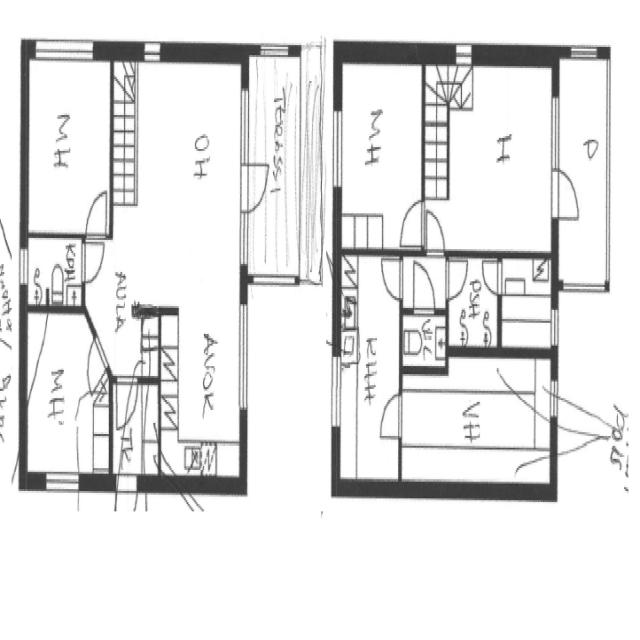door: (240, 113, 278, 226), (78, 212, 107, 288), (552, 163, 584, 225), (396, 188, 426, 252), (409, 258, 438, 316), (376, 386, 404, 444), (82, 186, 110, 244), (111, 372, 138, 430), (112, 468, 142, 520), (422, 202, 448, 259), (443, 253, 470, 303), (85, 334, 107, 394), (379, 255, 404, 302), (481, 256, 504, 296)
window: (232, 295, 252, 424), (32, 30, 98, 66), (246, 266, 303, 299), (328, 100, 346, 202), (328, 346, 344, 438), (41, 465, 83, 498), (546, 86, 562, 172), (139, 33, 167, 67), (547, 373, 562, 428), (257, 37, 292, 60), (452, 39, 475, 70), (548, 301, 562, 351), (18, 241, 31, 292)
zone: (110, 54, 244, 295), (420, 56, 556, 254), (399, 352, 550, 496), (156, 264, 244, 476), (336, 53, 424, 253), (24, 49, 112, 234), (336, 252, 401, 494), (21, 306, 110, 480), (499, 252, 554, 354), (447, 254, 501, 351), (23, 232, 84, 309), (401, 308, 446, 368)
